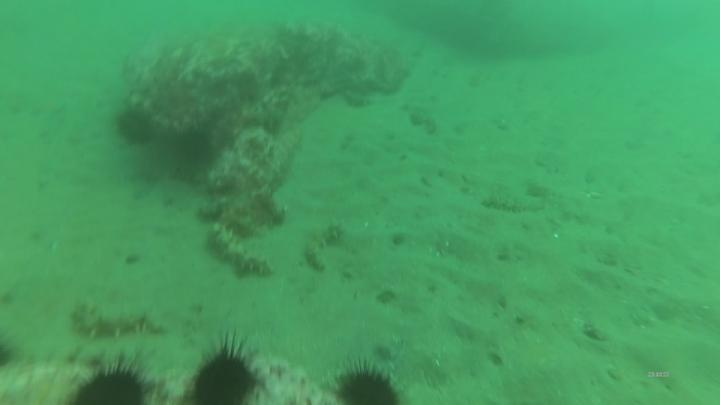echinus: (184, 331, 267, 405), (72, 348, 159, 405), (330, 352, 407, 405), (116, 107, 154, 149)
holothurian: (73, 299, 165, 342), (209, 222, 272, 281), (302, 223, 349, 276)
